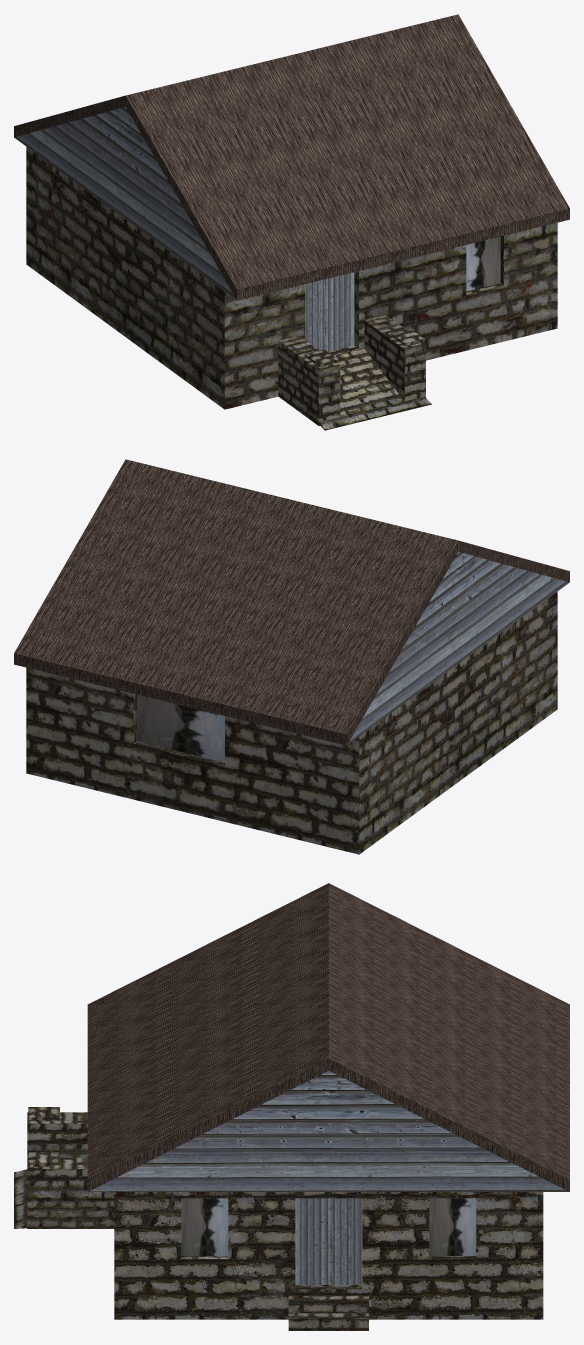
Rendered from vikingvisko1.obj.
3 renders of one model, top to bottom at view 1: azimuth 30°, elevation 25°; view 2: azimuth 150°, elevation 25°; view 3: azimuth 270°, elevation 25°, orthographic. The views are drawn at different scales.
Visible parts, largest first — view 1: Cube.002_Cube.005, Cube_Cube.001, Cube.001_Cube; view 2: Cube.002_Cube.005, Cube_Cube.001; view 3: Cube.002_Cube.005, Cube_Cube.001, Cube.001_Cube, Cube.003_Cube.004.
Boxes of the visible parts, x1,y1,x2,y2 form: Cube.002_Cube.005: (14,14,569,300); Cube_Cube.001: (26,147,557,409); Cube.001_Cube: (278,314,431,430); Cube.002_Cube.005: (14,459,569,745); Cube_Cube.001: (26,591,557,854); Cube.002_Cube.005: (87,883,569,1191); Cube_Cube.001: (114,1192,543,1319); Cube.001_Cube: (14,1107,114,1228); Cube.003_Cube.004: (288,1295,368,1330).
Size of the model in its own units: 6.6 by 4.3 by 8.3.
